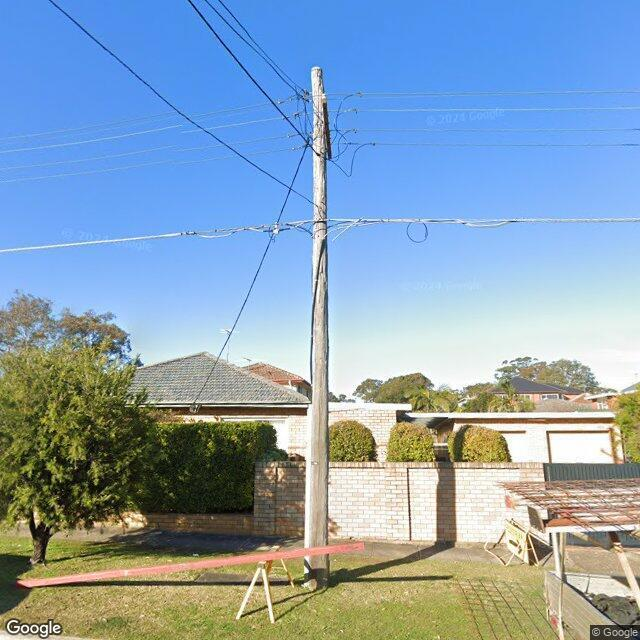crossarm: (322, 95, 332, 160)
timber-pole: (303, 65, 330, 587)
